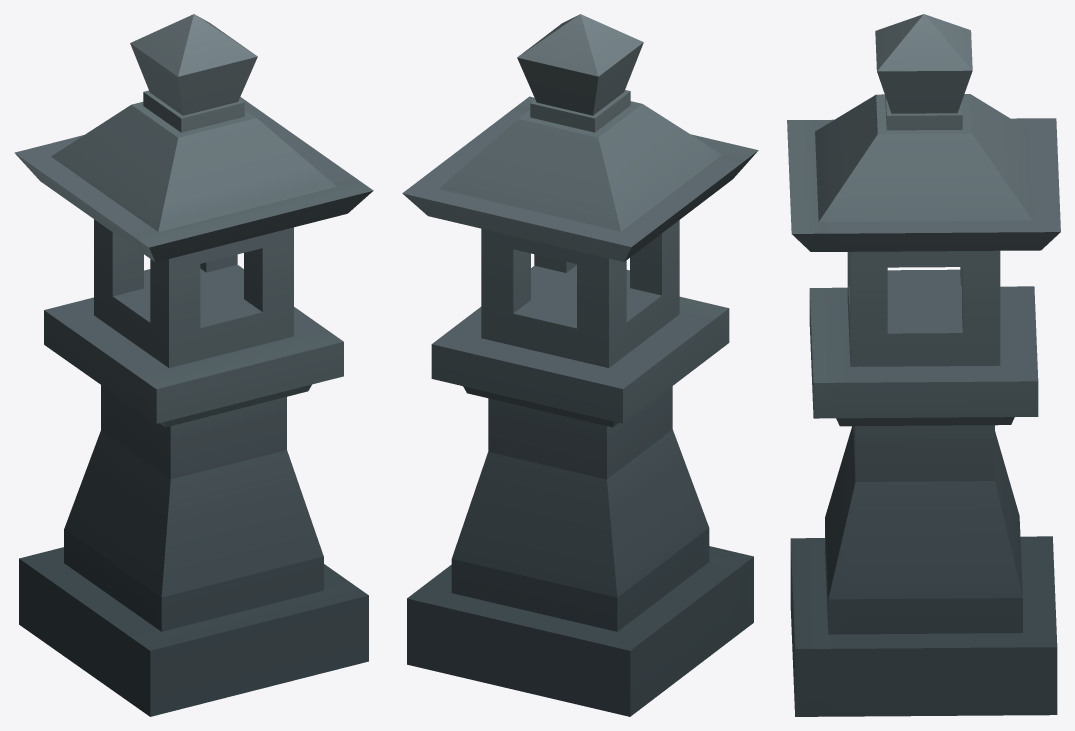
Rendered from stone_lantern.glb.
The picture shows the model from 3 angles, left to right: view 1: azimuth 30°, elevation 25°; view 2: azimuth 150°, elevation 25°; view 3: azimuth 270°, elevation 25°; orthographic projection. The views are drawn at different scales.
Visible parts, largest first — view 1: stone_lantern; view 2: stone_lantern; view 3: stone_lantern.
Part boxes in pixels (x1=…): stone_lantern: x1=14, y1=14, x2=373, y2=716; stone_lantern: x1=402, y1=14, x2=758, y2=716; stone_lantern: x1=787, y1=14, x2=1060, y2=716.
Bounding box in the file's own units: 0.6581 × 1.71 × 0.6581.
1 material, 1 textured.
